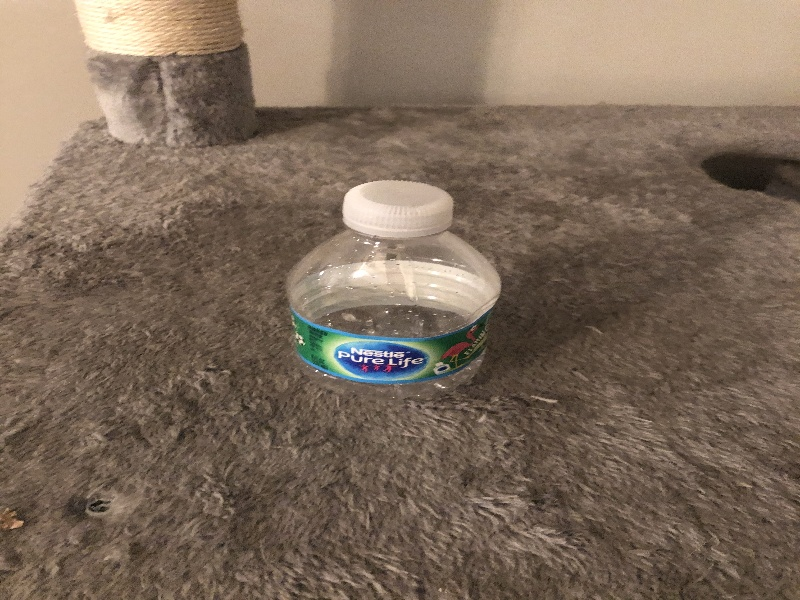plastic: (280, 177, 521, 407)
